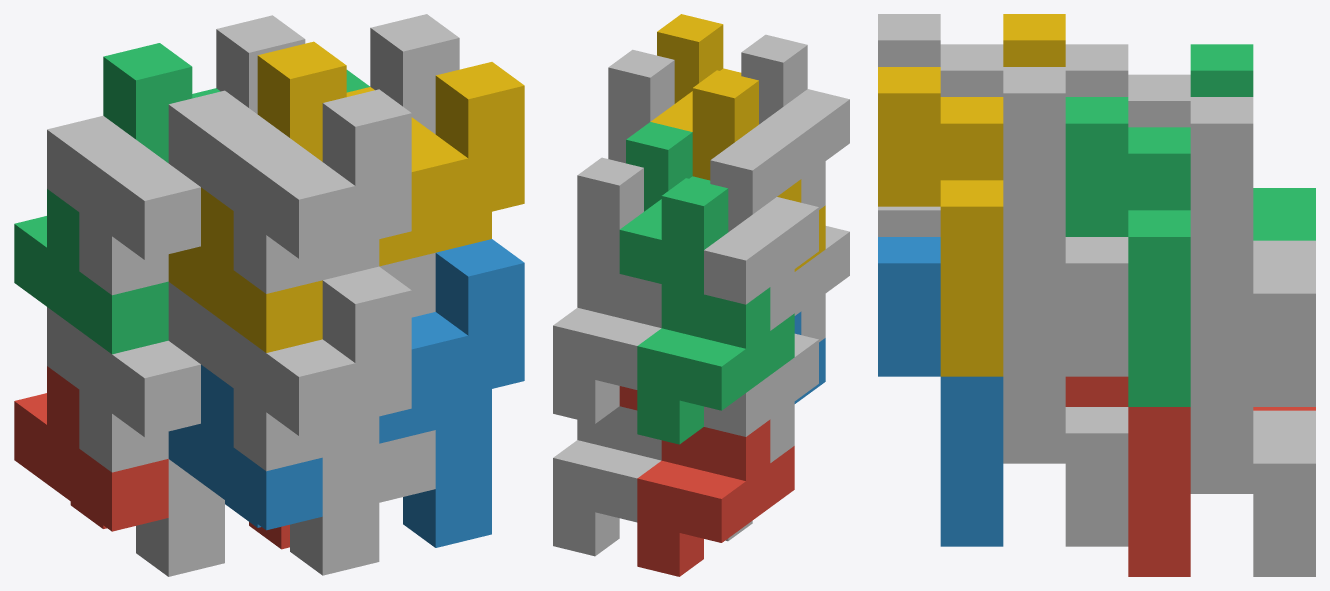
File: tiling.obj
3 renders of one model, left to right at view 1: azimuth 30°, elevation 25°; view 2: azimuth 150°, elevation 25°; view 3: azimuth 270°, elevation 25°, orthographic. The views are drawn at different scales.
Visible parts, largest first — view 1: copy_2_domain_2, copy_2_domain_4, copy_2_domain_6, copy_2_domain_1, copy_2_domain_3, copy_1_domain_3, copy_2_domain_8, copy_1_domain_4, copy_1_domain_1, copy_1_domain_2, copy_1_domain_8, copy_1_domain_7 (+1 smaller); view 2: copy_1_domain_3, copy_1_domain_7, copy_1_domain_1, copy_2_domain_3, copy_2_domain_4, copy_1_domain_5, copy_2_domain_7, copy_2_domain_1, copy_1_domain_4, copy_1_domain_8, copy_2_domain_8, copy_2_domain_2 (+2 smaller); view 3: copy_2_domain_8, copy_2_domain_7, copy_1_domain_5, copy_1_domain_7, copy_1_domain_6, copy_1_domain_8, copy_2_domain_6, copy_2_domain_5, copy_2_domain_3, copy_1_domain_3, copy_2_domain_4, copy_1_domain_4 (+1 smaller).
Boxes of the visible parts, x1,y1,x2,y2 form: copy_2_domain_2: (201, 266, 411, 575); copy_2_domain_4: (201, 89, 411, 293); copy_2_domain_6: (379, 239, 524, 547); copy_2_domain_1: (47, 282, 224, 576); copy_2_domain_3: (47, 90, 257, 295); copy_1_domain_3: (14, 43, 192, 354); copy_2_domain_8: (346, 62, 524, 266); copy_1_domain_4: (168, 41, 346, 352); copy_1_domain_1: (14, 366, 168, 531); copy_1_domain_2: (168, 364, 322, 530); copy_1_domain_8: (370, 14, 459, 317); copy_1_domain_7: (216, 15, 305, 113); copy_1_domain_3: (637, 178, 794, 444); copy_1_domain_7: (553, 157, 661, 423); copy_1_domain_1: (637, 419, 794, 576); copy_2_domain_3: (704, 142, 818, 330); copy_2_domain_4: (735, 34, 849, 209); copy_1_domain_5: (553, 406, 661, 556); copy_2_domain_7: (619, 122, 710, 283); copy_2_domain_1: (704, 333, 818, 541); copy_1_domain_4: (692, 70, 825, 271); copy_1_domain_8: (608, 49, 674, 163); copy_2_domain_8: (650, 14, 741, 131); copy_2_domain_2: (794, 226, 849, 342); copy_2_domain_8: (878, 67, 1003, 376); copy_2_domain_7: (1065, 97, 1190, 406); copy_1_domain_5: (1190, 293, 1315, 576); copy_1_domain_7: (1190, 97, 1315, 406); copy_1_domain_6: (1003, 263, 1128, 546); copy_1_domain_8: (1003, 67, 1128, 376); copy_2_domain_6: (878, 237, 1003, 546); copy_2_domain_5: (1065, 376, 1190, 576); copy_2_domain_3: (1065, 44, 1190, 127); copy_1_domain_3: (1190, 44, 1315, 240); copy_2_domain_4: (878, 14, 1003, 96); copy_1_domain_4: (1003, 14, 1065, 66).
Bounding box in the file's own units: 5 × 9 × 7.
